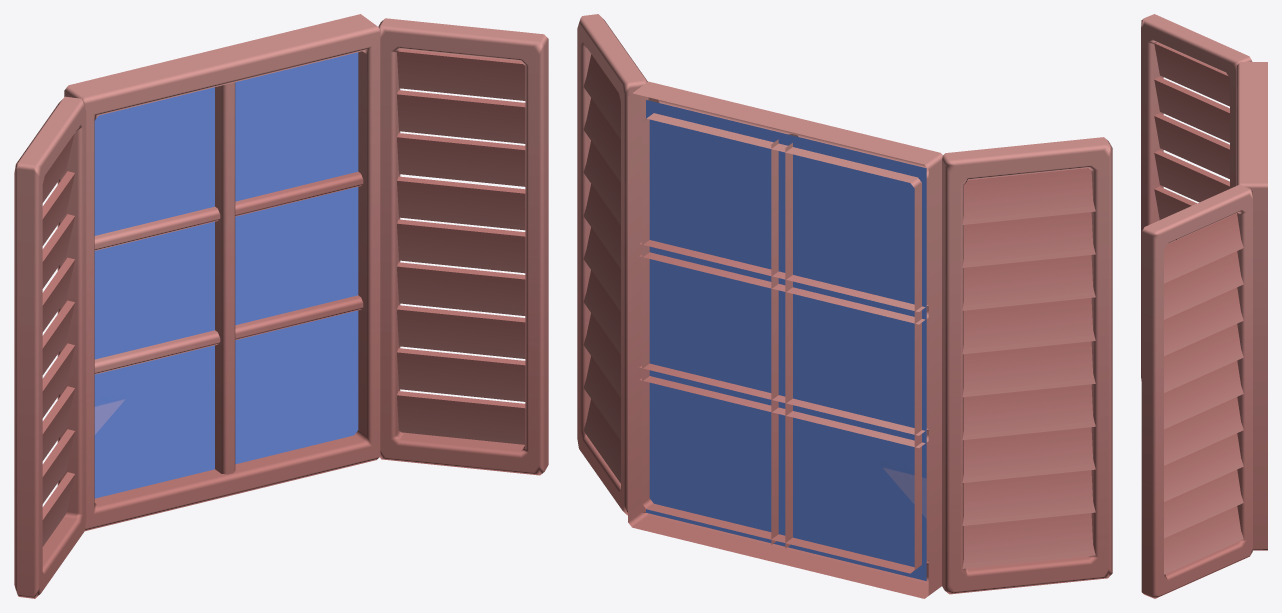
Rendered from Window_Pink.fbx.
3 views of the same model, side by side, from view 1: azimuth 30°, elevation 25°; view 2: azimuth 150°, elevation 25°; view 3: azimuth 270°, elevation 25° (orthographic). The views are drawn at different scales.
Visible parts, largest first — view 1: Cube.222, Cube.225, Cube.223; view 2: Cube.222, Cube.223, Cube.225; view 3: Cube.225, Cube.223, Cube.222.
Boxes of the visible parts, box(x1,y1,x2,y2) form: Cube.222: box(64, 14, 380, 531); Cube.225: box(378, 18, 548, 475); Cube.223: box(14, 96, 86, 598); Cube.222: box(628, 81, 942, 598); Cube.223: box(942, 137, 1112, 594); Cube.225: box(577, 14, 649, 515); Cube.225: box(1141, 184, 1252, 598); Cube.223: box(1141, 14, 1252, 380); Cube.222: box(1236, 62, 1267, 550).
Bounding box in the file's own units: 255 × 199 × 62.28.
